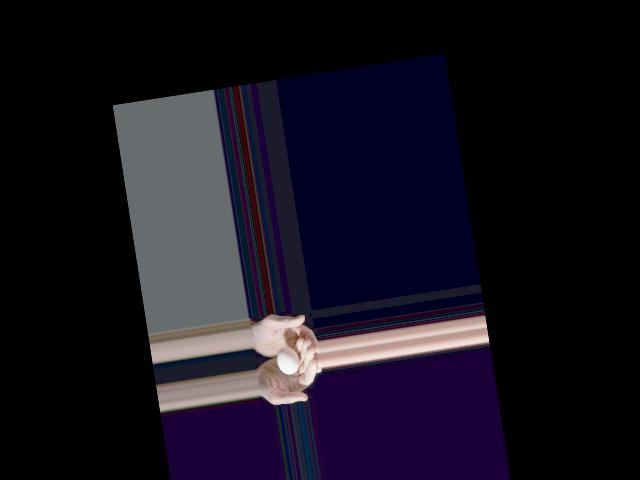egg: (275, 345, 301, 376)
